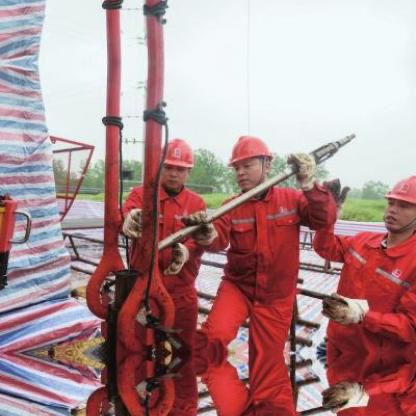Safety Helmet: (220, 130, 284, 201), (155, 133, 204, 198), (373, 170, 416, 236)
